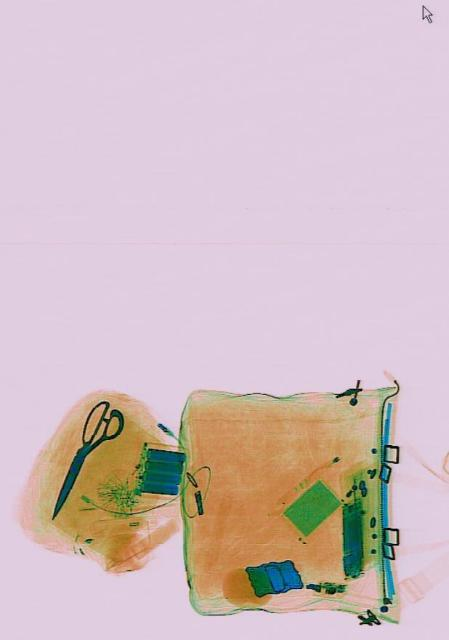Scissors: (38, 392, 125, 534)
